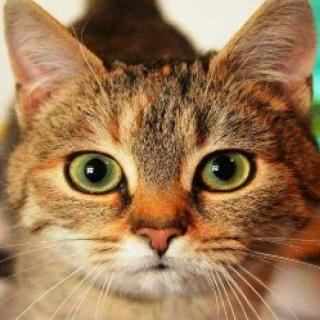cat: (4, 0, 314, 295)
nose: (127, 208, 194, 261)
